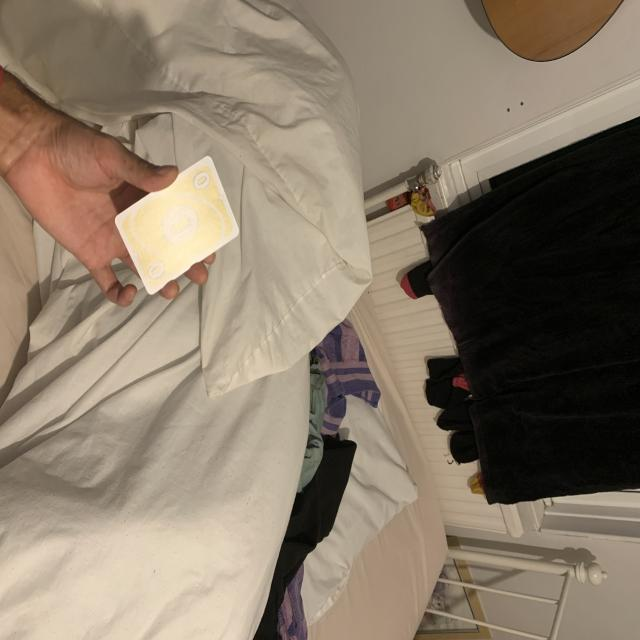lyellow-0: (190, 169, 213, 196)
